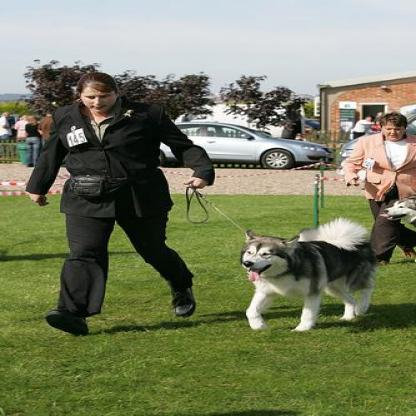malamute: (238, 217, 376, 335), (376, 192, 412, 230)
